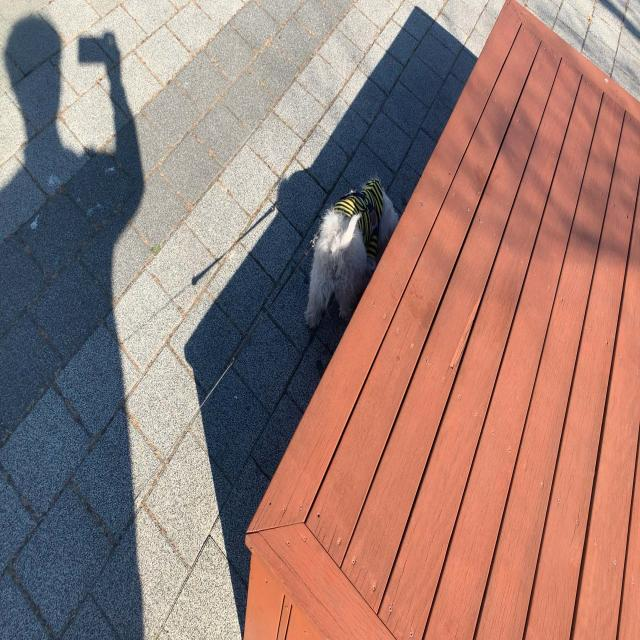Dog: (305, 176, 400, 332)
